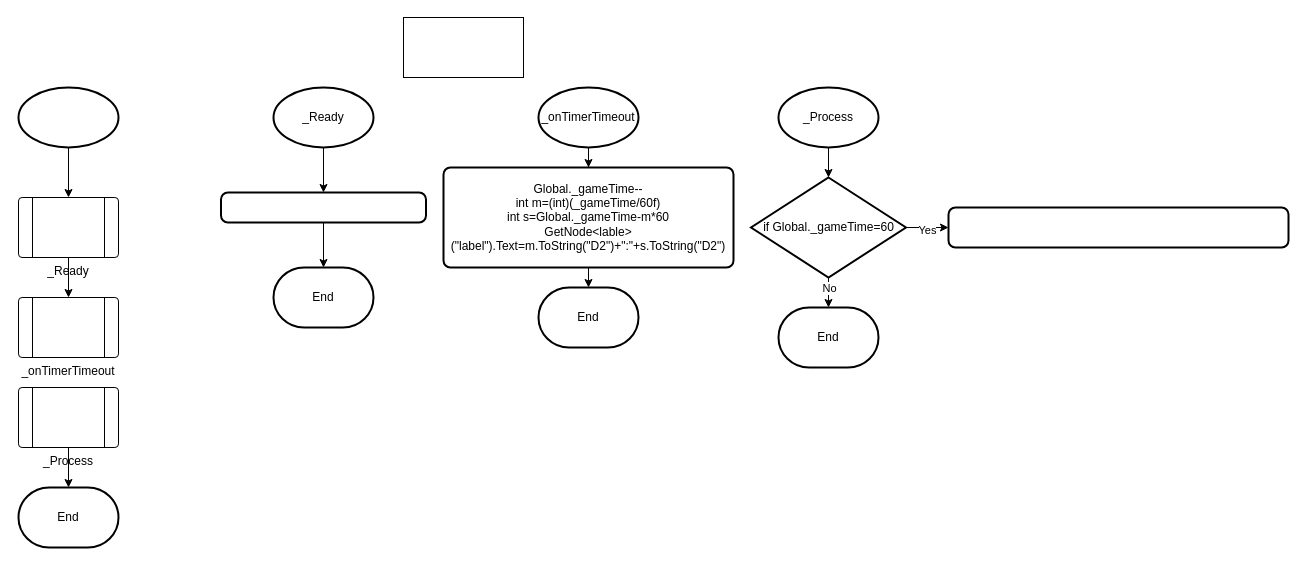
Some shapes in this 1306 by 566 pixel diagram are drawn without their labels. The shapes that lost their labels are listed below. From the top down, each one's box as (x1, y1, x2, y2) in pixels, then its label:
(402, 16, 524, 78): Timer
(17, 86, 119, 148): Start
(220, 191, 426, 223): GetNode<Timer>("Timer").Start()
(947, 206, 1289, 248): GetTree().ChangeSceneToFile(" res://Main Menu/main.tscn ");
